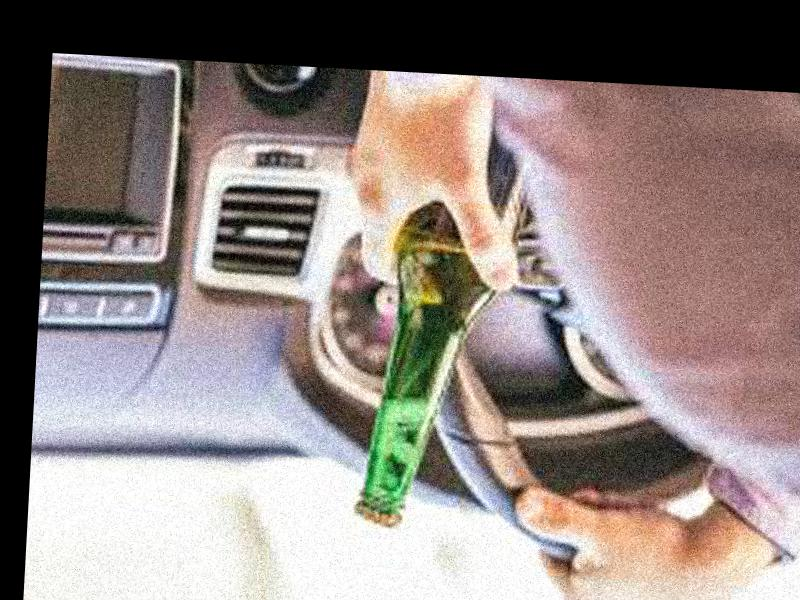Beer: (351, 89, 540, 537)
